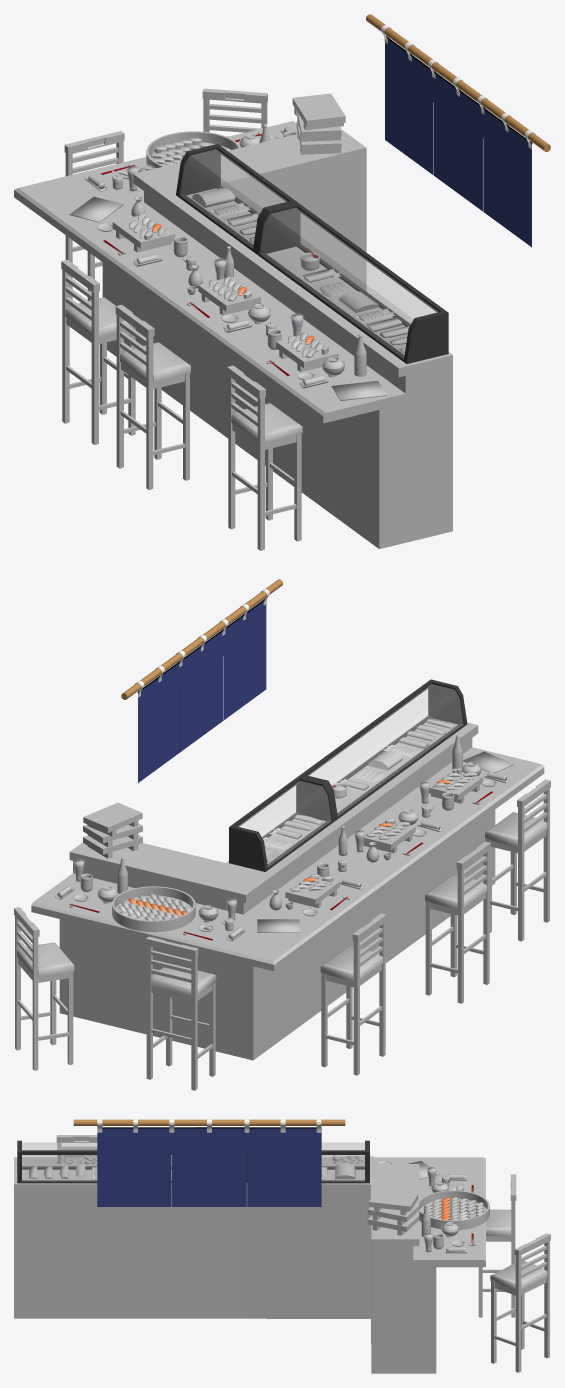
File: Sushi_Sample.FBX
3 views of the same model, one above another, from view 1: azimuth 30°, elevation 25°; view 2: azimuth 150°, elevation 25°; view 3: azimuth 270°, elevation 25° (orthographic). The views are drawn at different scales.
Parts seen in each view (by area): view 1: counter, counter_corner, noren, counter_case_glass, sushi_chair_004, sushi_chair_003, counter_case, sushi_chair_002, counter_case_glass_S, counter_case_S, sushi_chair_006, sushi_chair_005 (+8 smaller); view 2: counter_corner, counter, noren, counter_case_glass, sushi_chair_006, sushi_chair_002, sushi_chair_003, sushi_chair_005, sushi_chair_004, counter_case_glass_S, counter_case, counter_case_S (+8 smaller); view 3: counter_corner, counter, noren, sushi_chair_005, counter_case_glass, sushi_chair_006, counter_case_glass_S, sushioke, counter_case, geta005, counter_case_S, sushi_chair_004 (+4 smaller).
Boxes of the visible parts, <box> form: counter: <box>171,255,452,549</box>; counter_corner: <box>14,121,366,435</box>; noren: <box>366,14,550,247</box>; counter_case_glass: <box>260,208,438,358</box>; sushi_chair_004: <box>227,365,302,550</box>; sushi_chair_003: <box>115,304,190,489</box>; counter_case: <box>256,202,448,363</box>; sushi_chair_002: <box>61,259,135,444</box>; counter_case_glass_S: <box>180,149,287,247</box>; counter_case_S: <box>176,144,297,253</box>; sushi_chair_006: <box>64,131,124,305</box>; sushi_chair_005: <box>202,88,267,136</box>; counter_corner: <box>31,818,413,1060</box>; counter: <box>336,722,544,963</box>; noren: <box>121,579,282,782</box>; counter_case_glass: <box>307,684,463,815</box>; sushi_chair_006: <box>145,936,216,1090</box>; sushi_chair_002: <box>320,913,386,1075</box>; sushi_chair_003: <box>425,841,490,1003</box>; sushi_chair_005: <box>14,907,74,1070</box>; sushi_chair_004: <box>485,779,550,941</box>; counter_case_glass_S: <box>238,781,331,866</box>; counter_case: <box>299,679,467,820</box>; counter_case_S: <box>229,776,335,871</box>; counter_corner: <box>241,1157,485,1373</box>; counter: <box>14,1157,241,1318</box>; noren: <box>73,1119,345,1206</box>; sushi_chair_005: <box>490,1233,550,1372</box>; counter_case_glass: <box>22,1142,171,1181</box>; sushi_chair_006: <box>478,1174,516,1317</box>; counter_case_glass_S: <box>321,1142,364,1181</box>; sushioke: <box>419,1190,489,1230</box>; counter_case: <box>17,1140,247,1183</box>; geta005: <box>369,1189,418,1215</box>; counter_case_S: <box>321,1140,369,1183</box>; sushi_chair_004: <box>56,1135,97,1157</box>.
Bounding box in the file's own units: 2.24 × 2.26 × 4.07.
